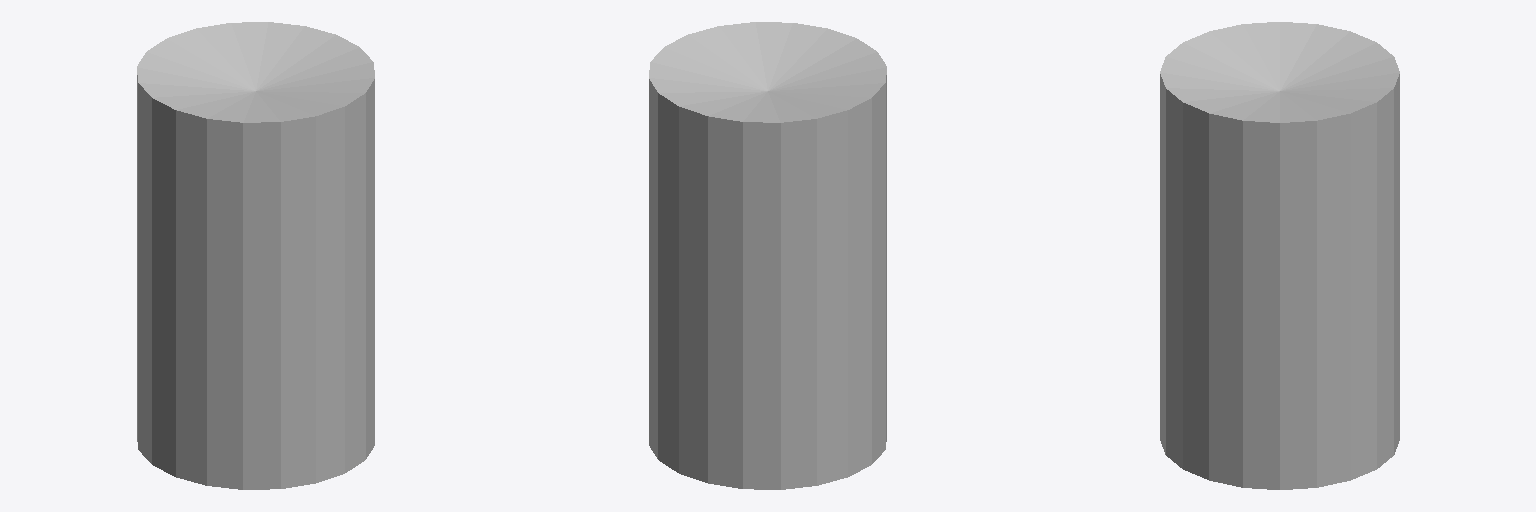
The model's file is canned_food_9.obj.
3 views of the same model, side by side, from view 1: azimuth 30°, elevation 25°; view 2: azimuth 150°, elevation 25°; view 3: azimuth 270°, elevation 25° (orthographic).
Visible parts, largest first — view 1: canned_food_14:pCylinder2; view 2: canned_food_14:pCylinder2; view 3: canned_food_14:pCylinder2.
Part boxes in pixels (left/top/right/bottom): canned_food_14:pCylinder2: left=137, top=22, right=374, bottom=489; canned_food_14:pCylinder2: left=649, top=22, right=886, bottom=489; canned_food_14:pCylinder2: left=1160, top=22, right=1399, bottom=489.
Size of the model in its own units: 0.3588 by 0.605 by 0.3588.